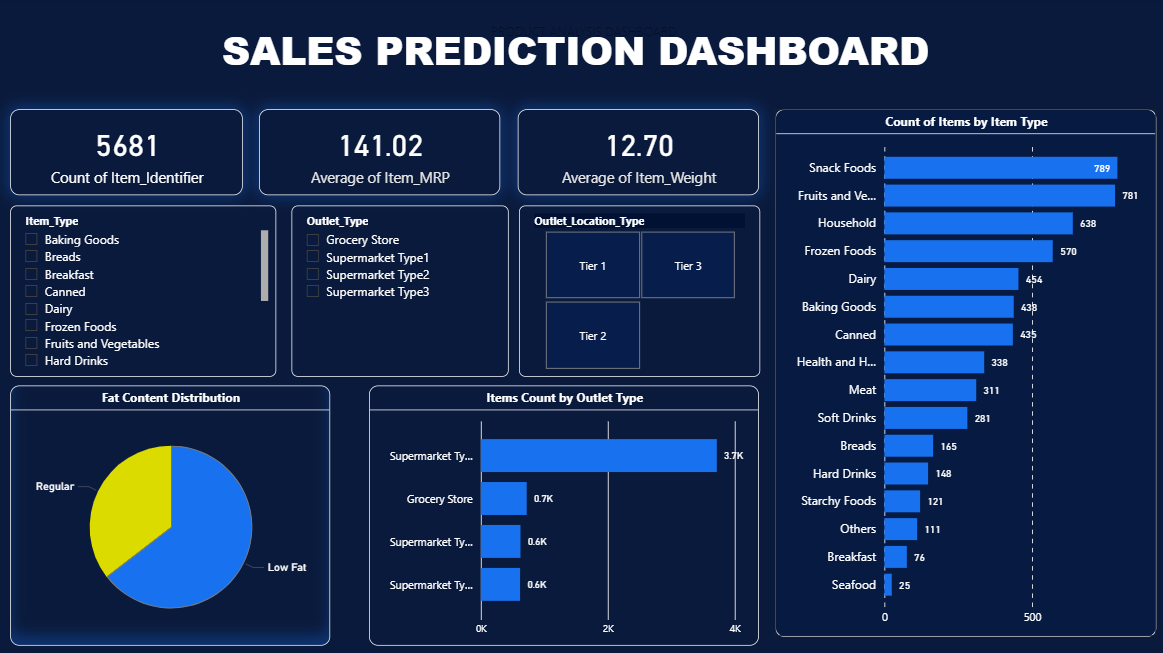

What the dashboard file says about the page in this screenshot:
{"tool":"powerbi","page":{"name":"Page 1","canvas":[1280,720],"ordinal":0},"visuals":[{"type":"card","fields":{"Values":["CountNonNull(Test.Item_Identifier)"]},"box":[12.3,122.1,255.2,94.7],"z":0},{"type":"card","fields":{"Values":["Avg(Test.Item_MRP)"]},"box":[285.4,122.1,264.8,94.7],"z":1000},{"type":"card","fields":{"Values":["Avg(Test.Item_Weight)"]},"box":[569.5,122.1,264.8,94.7],"z":2000},{"type":"clusteredBarChart","title":"Count of Items by Item Type","fields":{"Category":["Test.Item_Type"],"Y":["CountNonNull(Test.Item_Identifier)"]},"box":[852.1,122.1,418.5,579.1],"z":3000},{"type":"pieChart","title":"Fat Content Distribution","fields":{"Category":["Test.Item_Fat_Content"],"Y":["CountNonNull(Test.Item_Identifier)"]},"box":[12.3,425.4,351.3,285.4],"z":4000},{"type":"barChart","title":"Items Count by Outlet Type","fields":{"Y":["CountNonNull(Test.Item_Identifier)"],"Category":["Test.Outlet_Type"]},"box":[406.2,425.4,428.1,285.4],"z":5000},{"type":"slicer","fields":{"Values":["Test.Item_Type"]},"box":[12.3,227.8,292.3,188],"z":6000},{"type":"slicer","fields":{"Values":["Test.Outlet_Type"]},"box":[321.1,227.8,238.8,188],"z":7000},{"type":"slicer","fields":{"Values":["Test.Outlet_Location_Type"]},"box":[570.8,227.8,264.8,188],"z":8000},{"type":"textbox","box":[535.2,22,299.1,34.3],"z":9000},{"type":"textbox","box":[124.9,22,1030.5,86.4],"z":9001}]}

Visuals, with their boxes in screenshot pixels (x1, y1, x2, y2), scaled from the page's 1280x720 canvas onto the 1163x653 screenshot:
card - CountNonNull(Test.Item_Identifier): BBox(11, 111, 243, 197)
card - Avg(Test.Item_MRP): BBox(259, 111, 500, 197)
card - Avg(Test.Item_Weight): BBox(517, 111, 758, 197)
"Count of Items by Item Type" clusteredBarChart: BBox(774, 111, 1154, 636)
"Fat Content Distribution" pieChart: BBox(11, 386, 330, 645)
"Items Count by Outlet Type" barChart: BBox(369, 386, 758, 645)
slicer - Test.Item_Type: BBox(11, 207, 277, 377)
slicer - Test.Outlet_Type: BBox(292, 207, 509, 377)
slicer - Test.Outlet_Location_Type: BBox(519, 207, 759, 377)
textbox: BBox(486, 20, 758, 51)
textbox: BBox(113, 20, 1050, 98)
